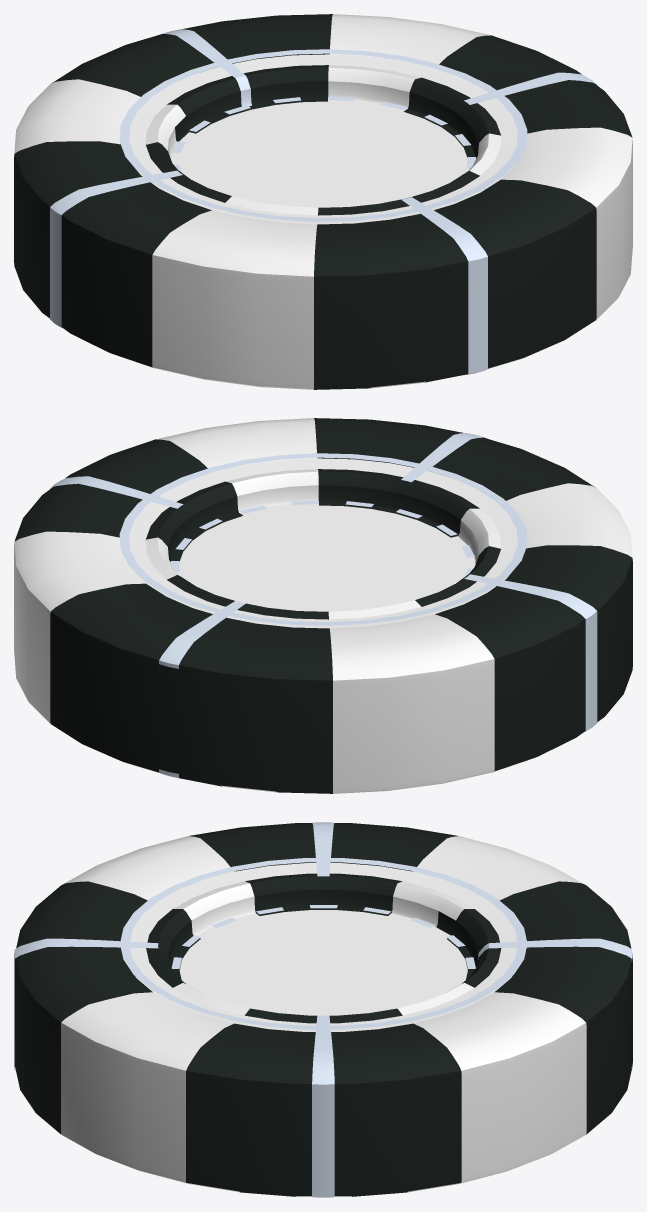
The model's file is Ball_Chip2.fbx.
3 views of the same model, one above another, from view 1: azimuth 30°, elevation 25°; view 2: azimuth 150°, elevation 25°; view 3: azimuth 270°, elevation 25° (orthographic).
Visible parts, largest first — view 1: Cylinder.028; view 2: Cylinder.028; view 3: Cylinder.028.
Boxes of the visible parts, x1,y1,x2,y2 form: Cylinder.028: [14, 14, 632, 389]; Cylinder.028: [14, 418, 632, 793]; Cylinder.028: [14, 822, 632, 1197].
Size of the model in its own units: 100 by 23.98 by 100.
